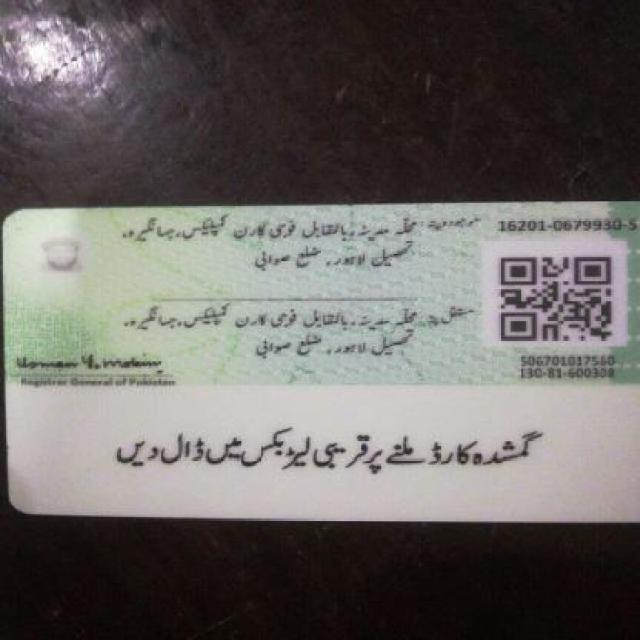Back: (5, 200, 637, 526)
